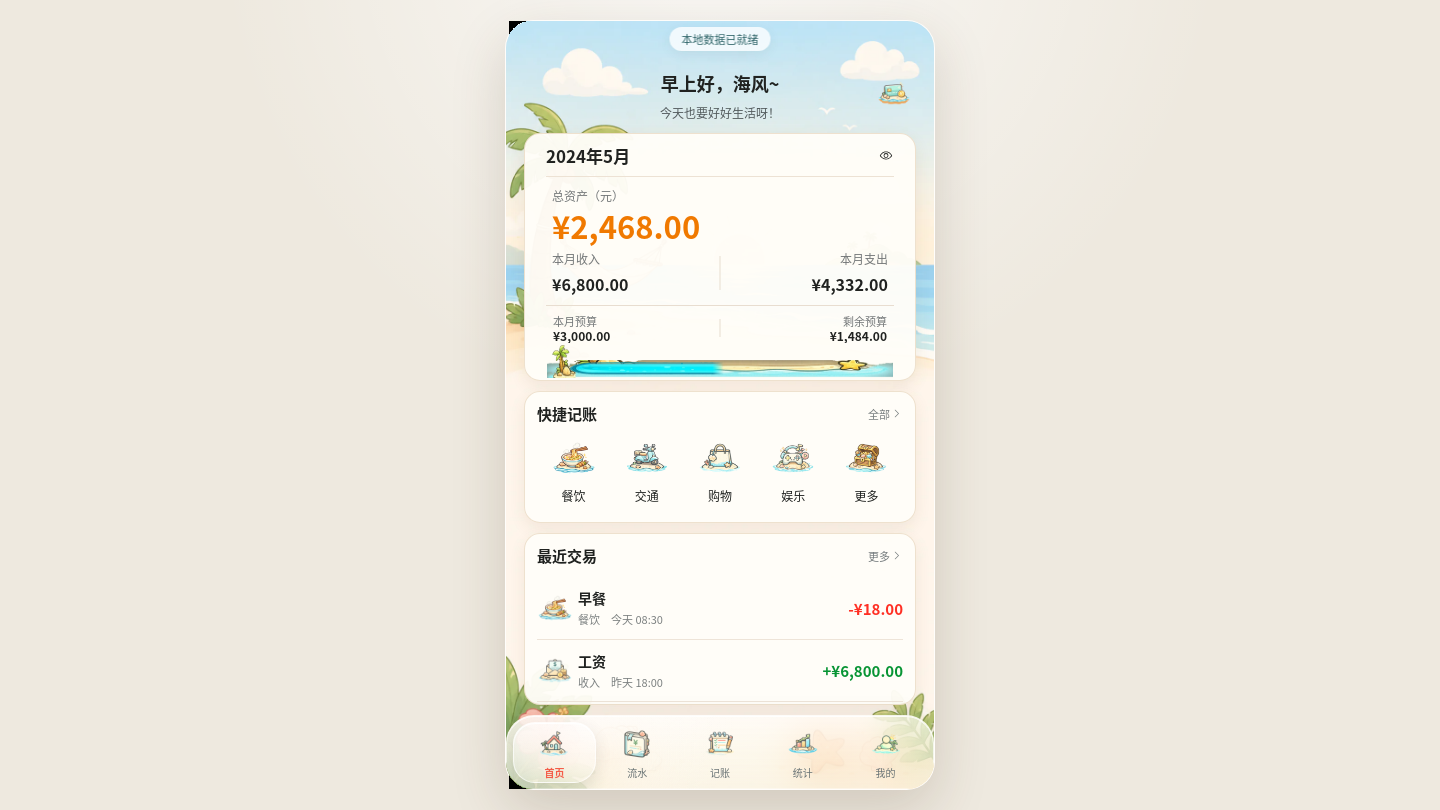
Scenario: reference five-page application › opens each primary page and uses corrected category labels
Click the button "流水" at (637, 753), box [596,722,679,784]
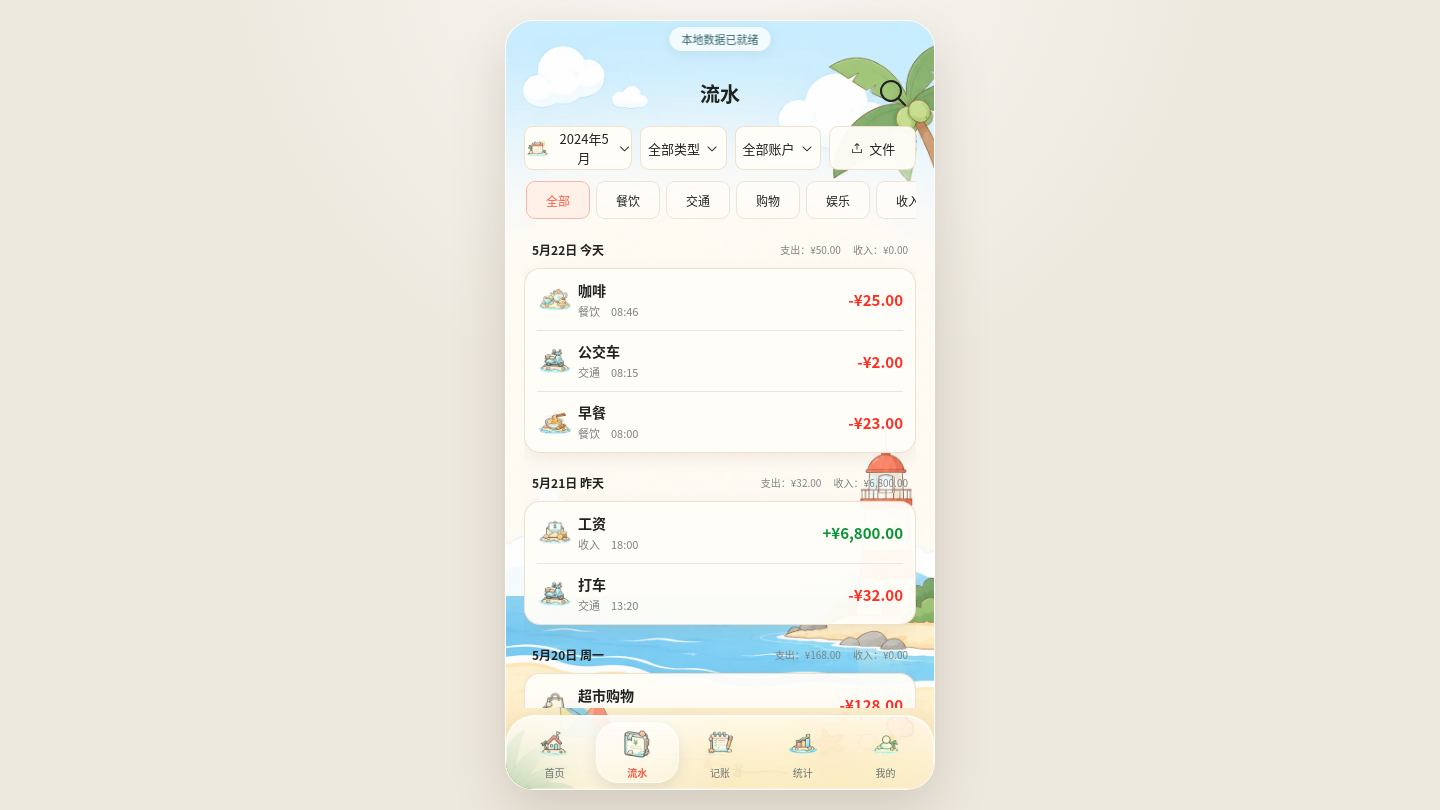
Result: the heading "流水" is shown at [700,79,740,108]
Click the button "记账" at (720, 753), box [679,722,761,784]
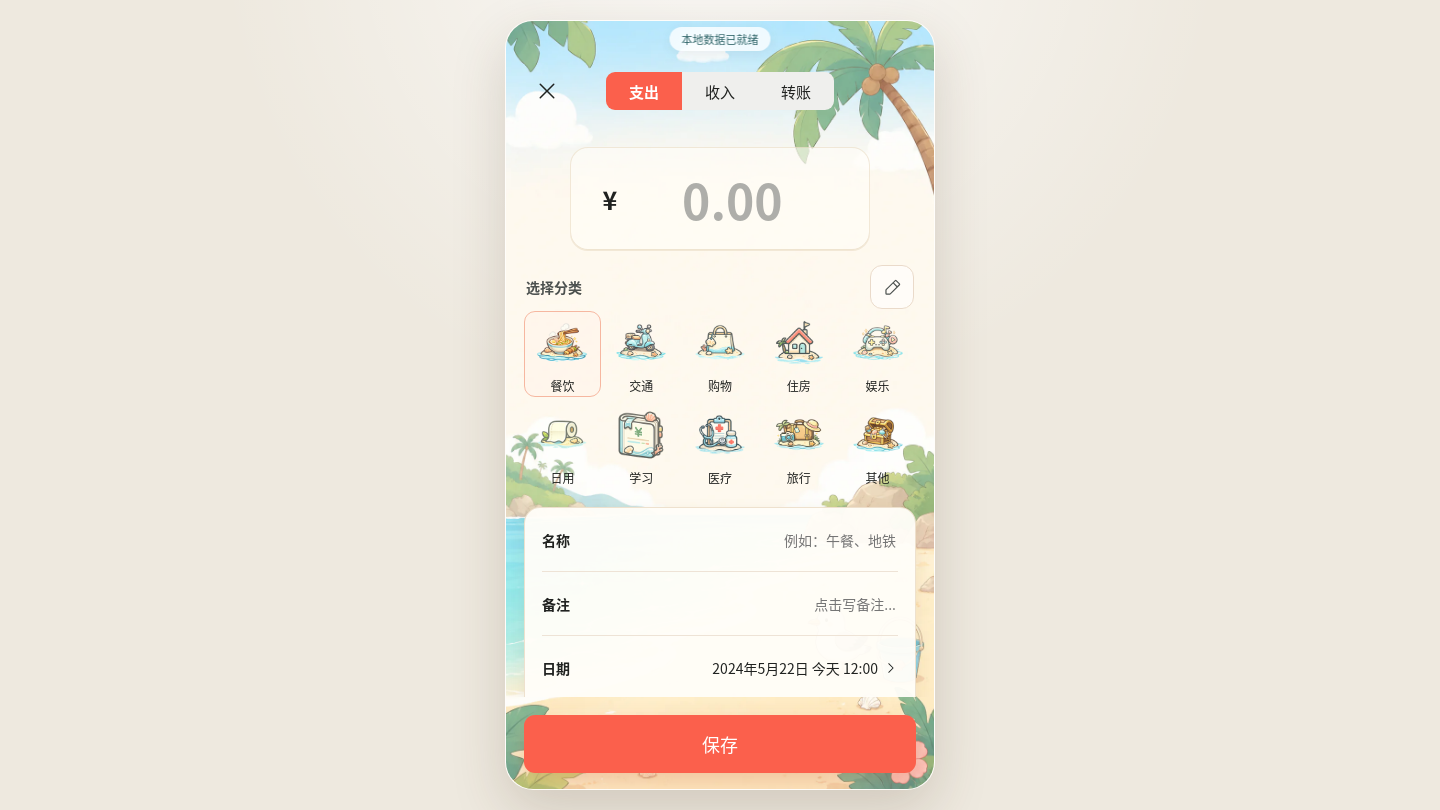
Result: the field named "金额" is empty at [627,163,837,235]
Result: the button "住房" is shown at [760,311,837,397]
Result: the button "日用" is shown at [524,403,601,489]
Click the button named "关闭" at (547, 91), box [525,69,569,113]
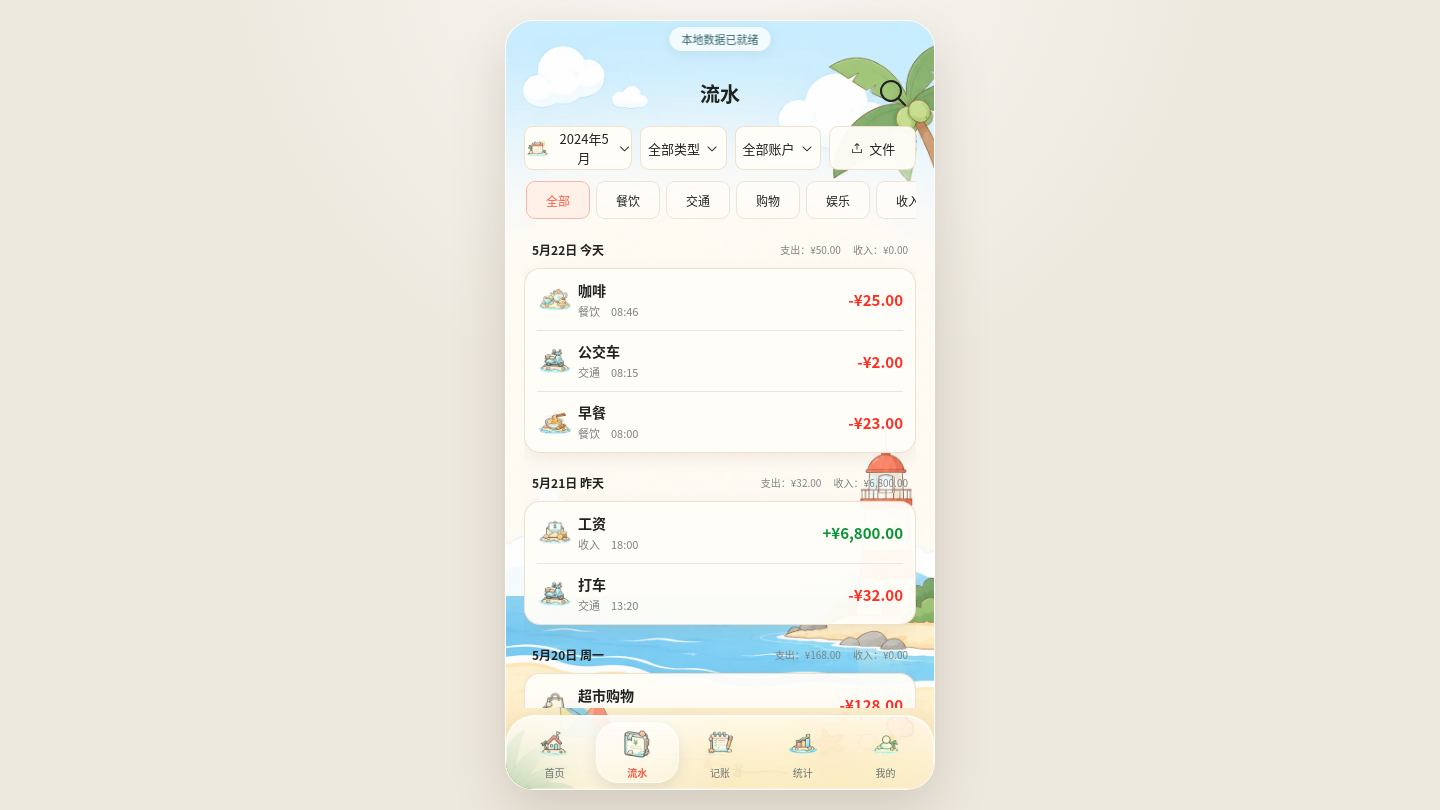
Result: the heading "流水" is shown at [700,79,740,108]
